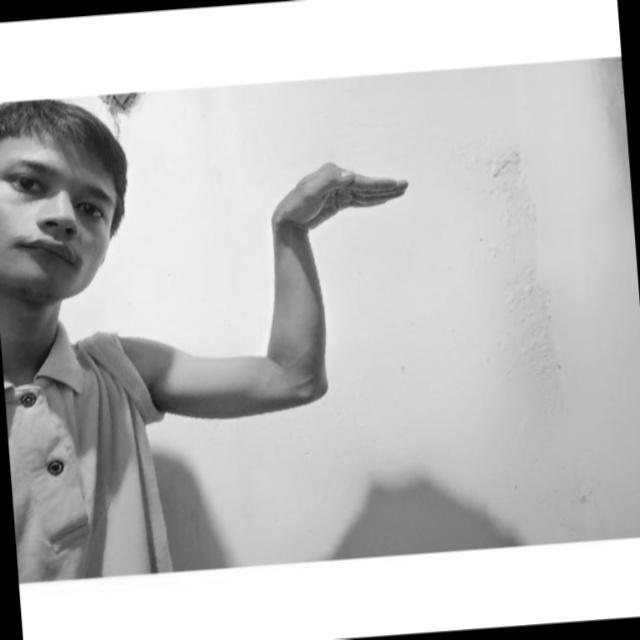Z: (232, 133, 432, 429)
